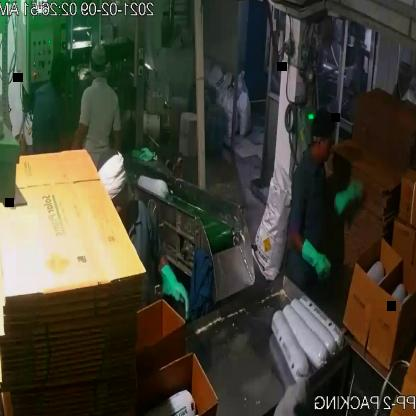glove: (156, 260, 192, 320), (298, 236, 333, 286), (330, 176, 365, 223)
